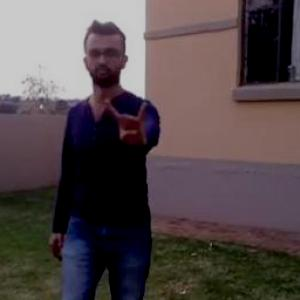takeoff-hand: (102, 87, 158, 150)
